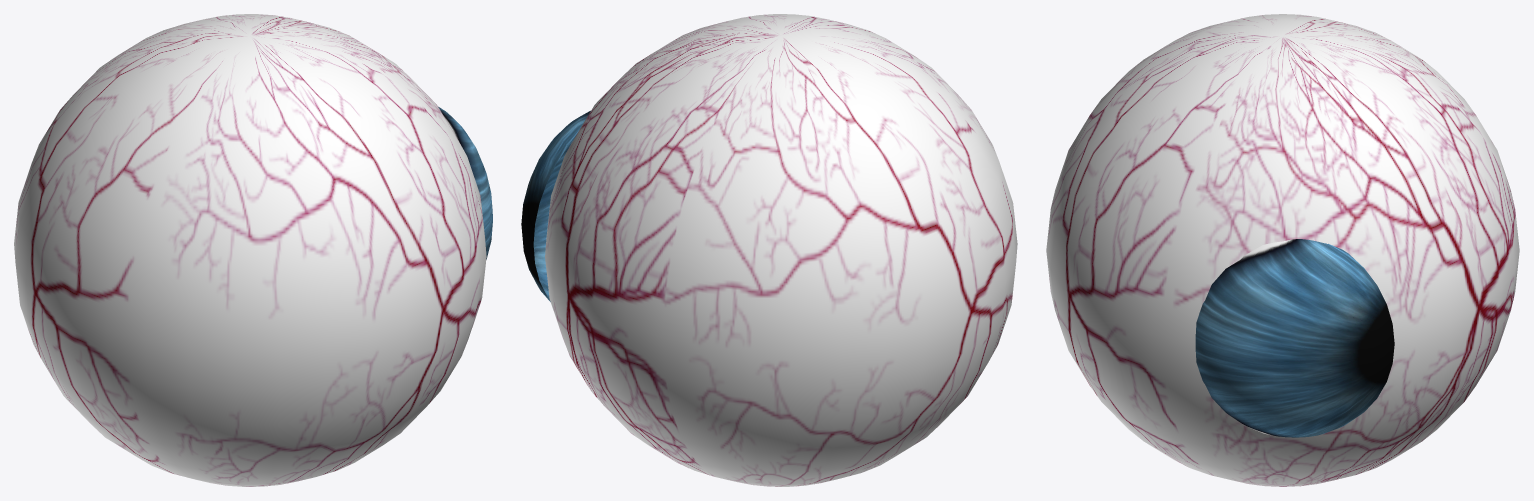
The model's file is Eye Ball.fbx.
3 renders of one model, left to right at view 1: azimuth 30°, elevation 25°; view 2: azimuth 150°, elevation 25°; view 3: azimuth 270°, elevation 25°, orthographic.
Parts seen in each view (by area): view 1: Sphere001, Sphere002; view 2: Sphere001, Sphere002; view 3: Sphere001, Sphere002.
Part boxes in pixels (left/top/right/bottom): Sphere001: left=14, top=14, right=486, bottom=486; Sphere002: left=438, top=106, right=492, bottom=259; Sphere001: left=545, top=14, right=1017, bottom=486; Sphere002: left=521, top=110, right=590, bottom=301; Sphere001: left=1046, top=14, right=1519, bottom=486; Sphere002: left=1195, top=239, right=1394, bottom=437.
Bounding box in the file's own units: 53.03 × 49.69 × 49.69.
Materials: 2 (2 with a texture image).
